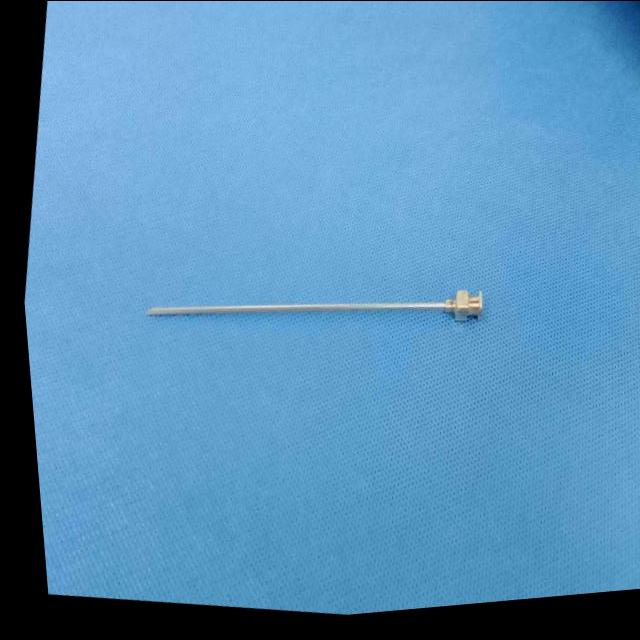General: (23, 2, 638, 614)
Sharps: (145, 288, 483, 319)
